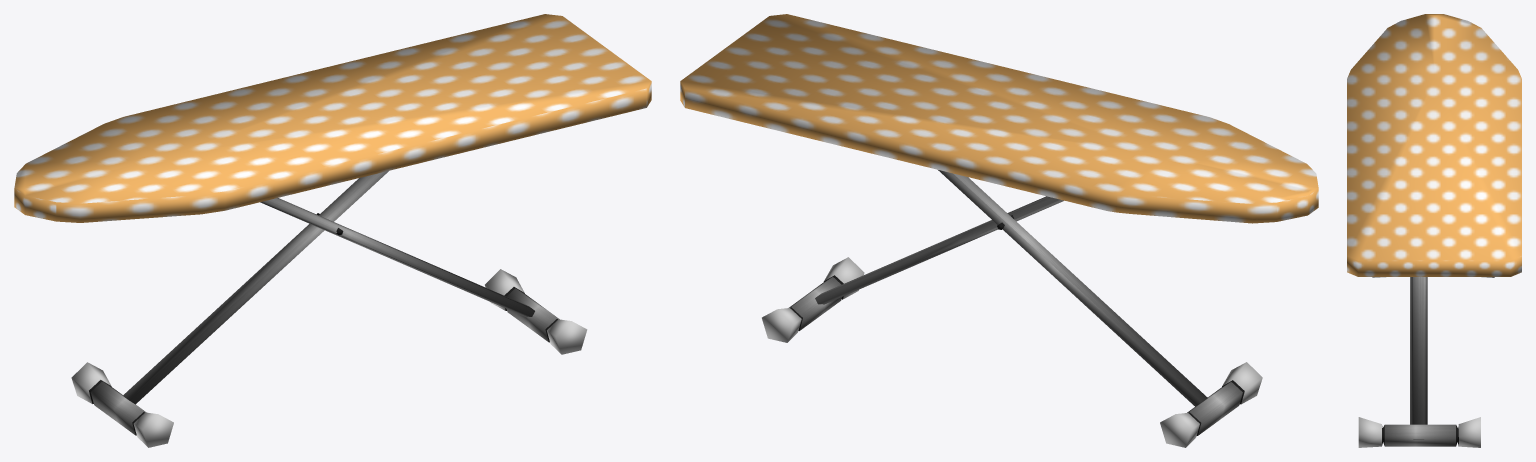
Rendered from Ironing_Board_D.FBX.
3 renders of one model, left to right at view 1: azimuth 30°, elevation 25°; view 2: azimuth 150°, elevation 25°; view 3: azimuth 270°, elevation 25°, orthographic. The views are drawn at different scales.
Visible parts, largest first — view 1: Ironing_Board; view 2: Ironing_Board; view 3: Ironing_Board.
Boxes of the visible parts, x1,y1,x2,y2 form: Ironing_Board: (14, 14, 651, 447); Ironing_Board: (680, 14, 1318, 447); Ironing_Board: (1347, 14, 1521, 447).
Bounding box in the file's own units: 317 × 130 × 95.
